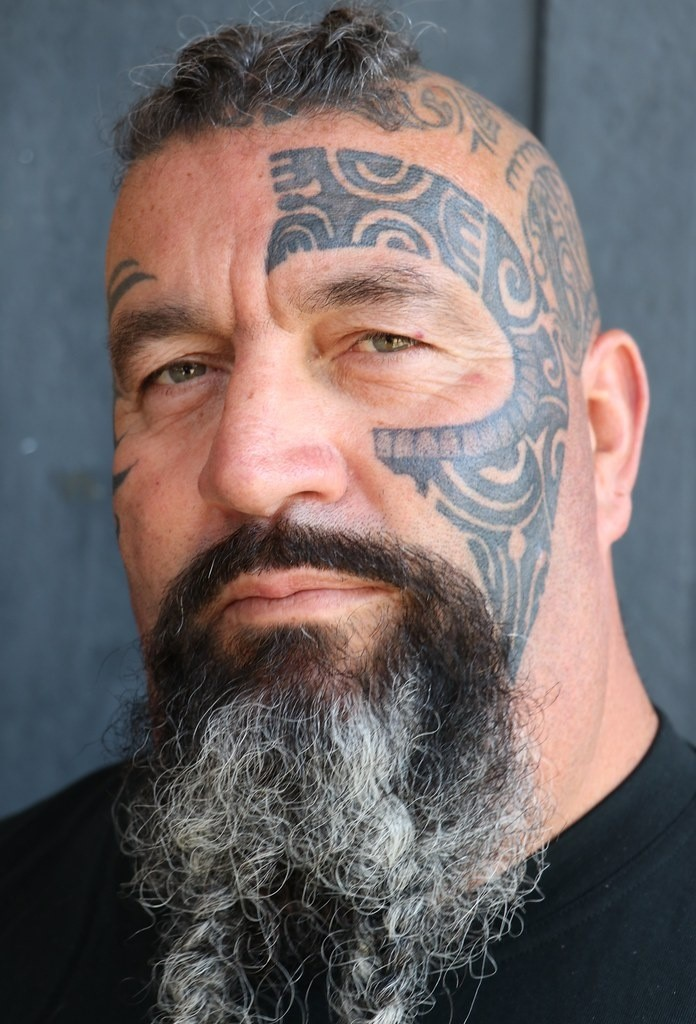face_no_mask: (103, 57, 652, 826)
